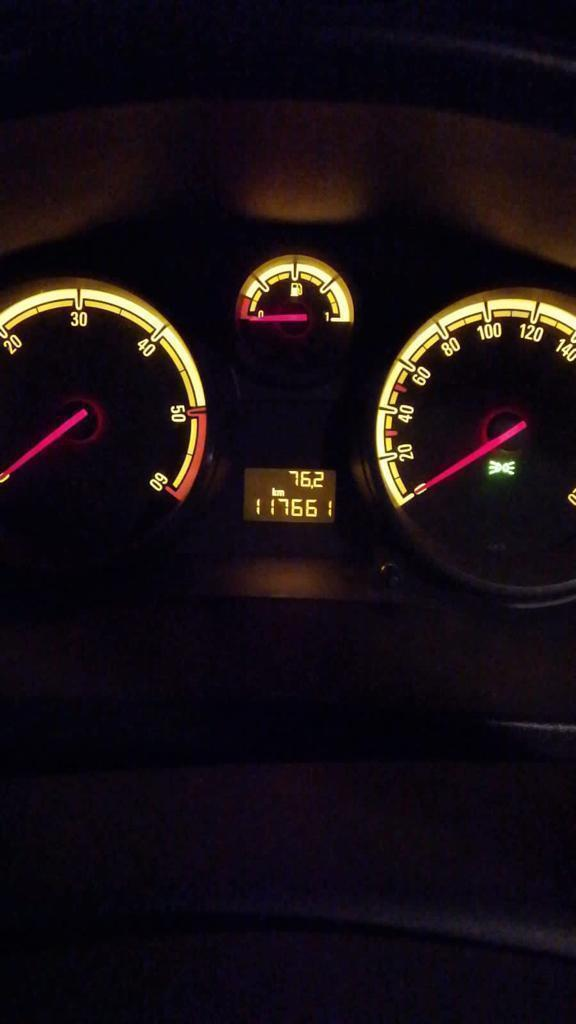,: (310, 484, 314, 489)
1: (255, 497, 261, 515), (327, 499, 332, 518), (270, 498, 275, 515)
2: (312, 471, 324, 487)
6: (290, 498, 303, 516), (305, 498, 317, 517), (299, 470, 311, 487)
7: (277, 498, 288, 516), (287, 470, 298, 487)
X: (276, 489, 285, 496), (271, 487, 277, 496)
odometer: (241, 466, 337, 523)
